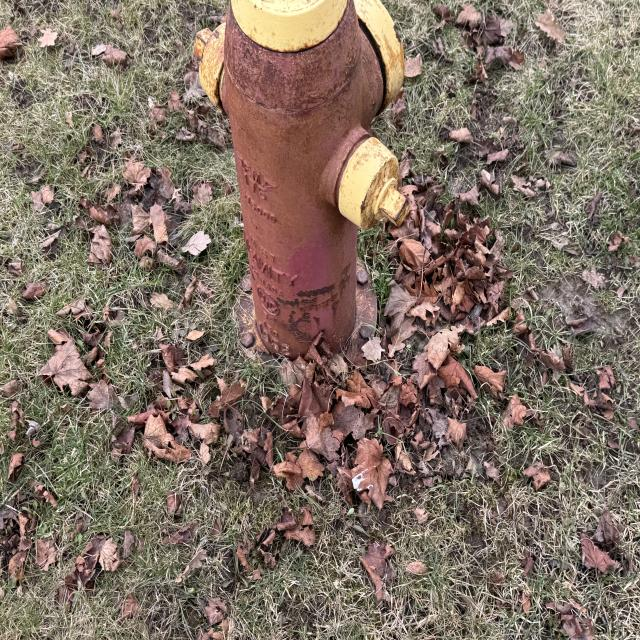Fire hydrant: (197, 0, 410, 388)
